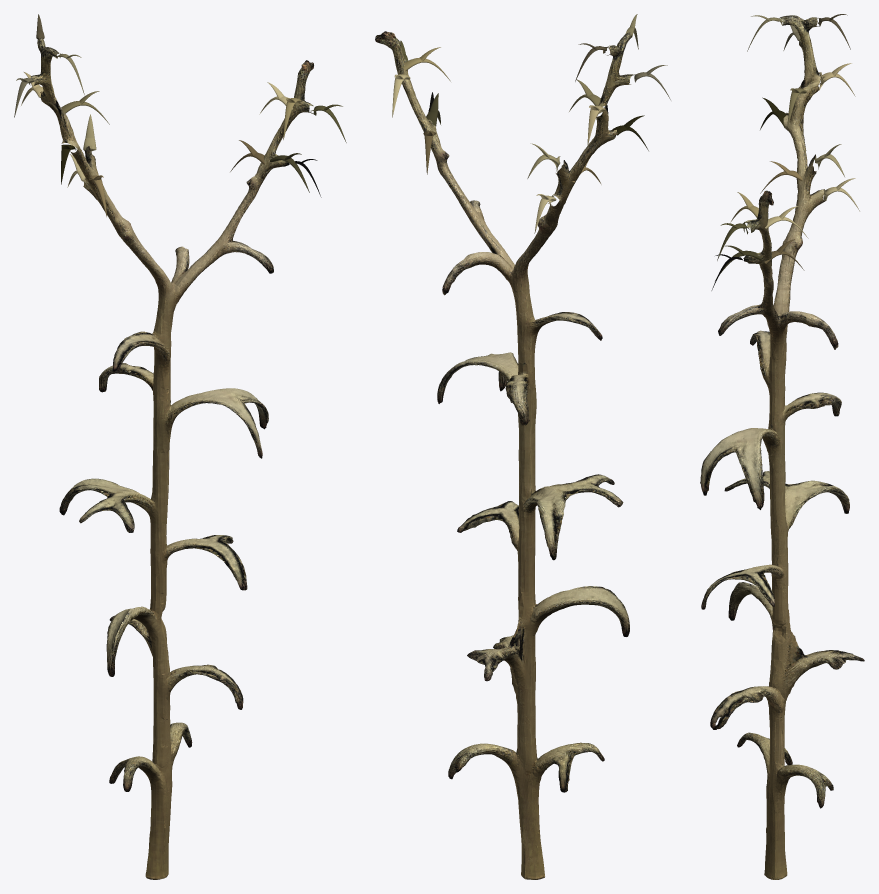
3 renders of one model, left to right at view 1: azimuth 30°, elevation 25°; view 2: azimuth 150°, elevation 25°; view 3: azimuth 270°, elevation 25°, orthographic. The views are drawn at different scales.
Parts seen in each view (by area): view 1: world, Continuous tapered bifurcate replacement surfaces; view 2: world, Continuous tapered bifurcate replacement surfaces; view 3: world, Continuous tapered bifurcate replacement surfaces.
Boxes of the visible parts, x1=… form: world: x1=31, y1=38, x2=315, y2=879; Continuous tapered bifurcate replacement surfaces: x1=14, y1=14, x2=346, y2=216; world: x1=375, y1=31, x2=634, y2=879; Continuous tapered bifurcate replacement surfaces: x1=392, y1=14, x2=670, y2=233; world: x1=700, y1=15, x2=864, y2=879; Continuous tapered bifurcate replacement surfaces: x1=711, y1=14, x2=859, y2=290.
Size of the model in its own units: 0.3688 by 1.01 by 0.1833.
Materials: 1 (1 with a texture image).
